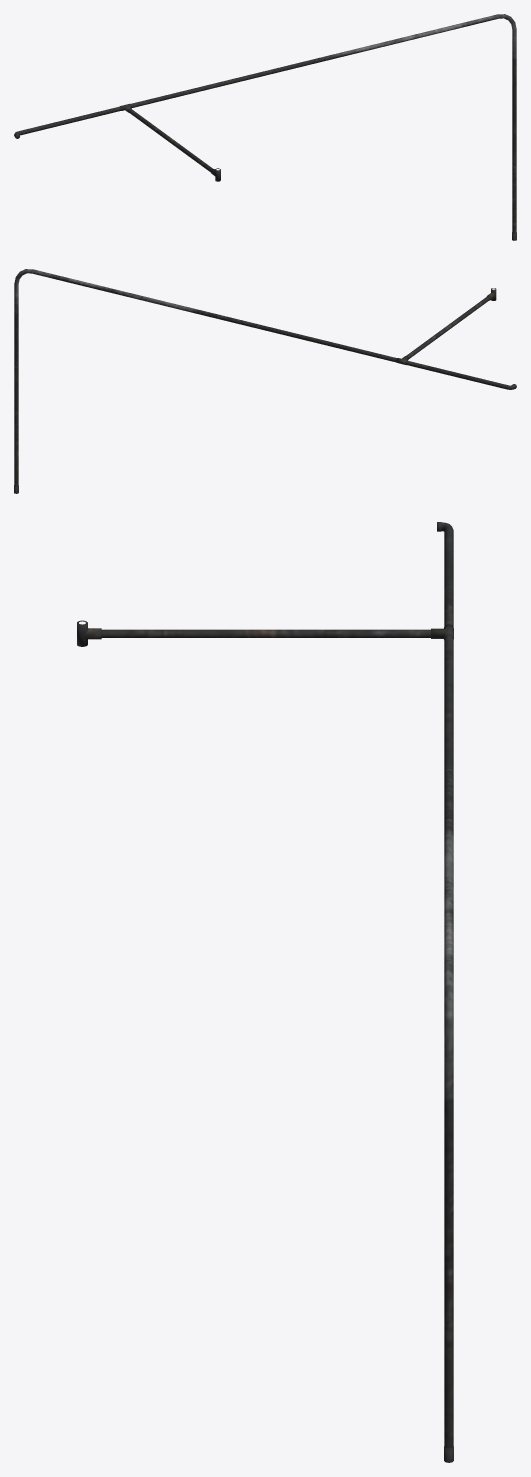
The model's file is yangin_korkuluk_2_2m.gltf.
3 renders of one model, top to bottom at view 1: azimuth 30°, elevation 25°; view 2: azimuth 150°, elevation 25°; view 3: azimuth 270°, elevation 25°, orthographic. The views are drawn at different scales.
Visible parts, largest first — view 1: yangin_korkuluk_2_2m; view 2: yangin_korkuluk_2_2m; view 3: yangin_korkuluk_2_2m.
Boxes of the visible parts, x1,y1,x2,y2 form: yangin_korkuluk_2_2m: [14, 14, 516, 240]; yangin_korkuluk_2_2m: [14, 269, 516, 493]; yangin_korkuluk_2_2m: [77, 522, 453, 1462].
Size of what is drawn, in the model's own units: 2.23 by 0.9857 by 0.7304.
1 material, 1 textured.
